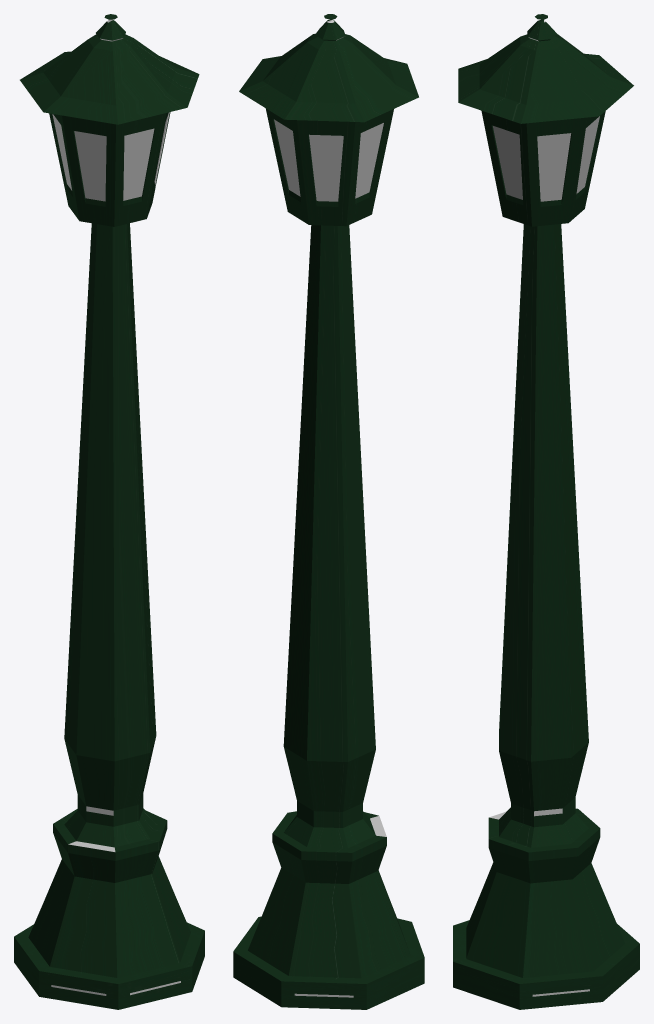
Rendered from lampadaire.fbx.
3 views of the same model, side by side, from view 1: azimuth 30°, elevation 25°; view 2: azimuth 150°, elevation 25°; view 3: azimuth 270°, elevation 25° (orthographic).
Parts seen in each view (by area): view 1: Cylindre; view 2: Cylindre; view 3: Cylindre.
Part boxes in pixels (box(x1,y1,x2,y2)): Cylindre: box(14, 14, 204, 1009); Cylindre: box(233, 14, 424, 1009); Cylindre: box(453, 14, 639, 1009).
Size of the model in its own units: 195 by 1069 by 190.
